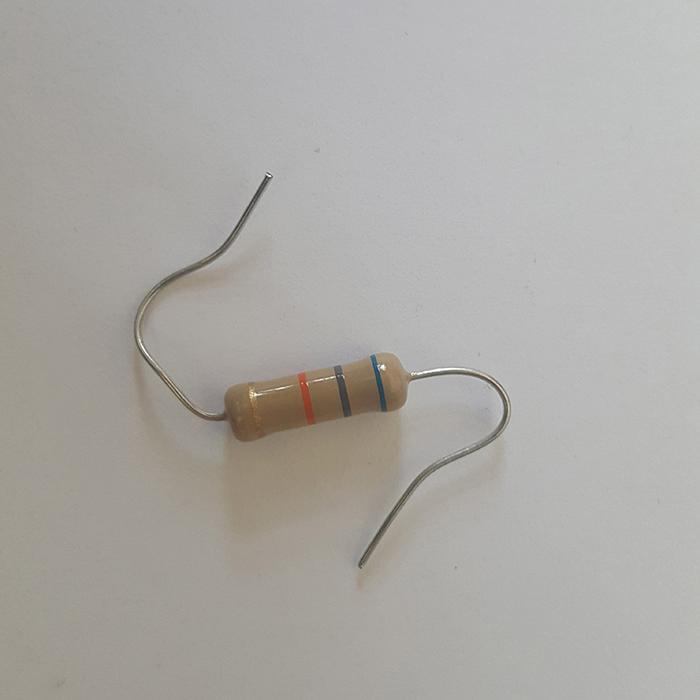resistor: (223, 350, 410, 442)
